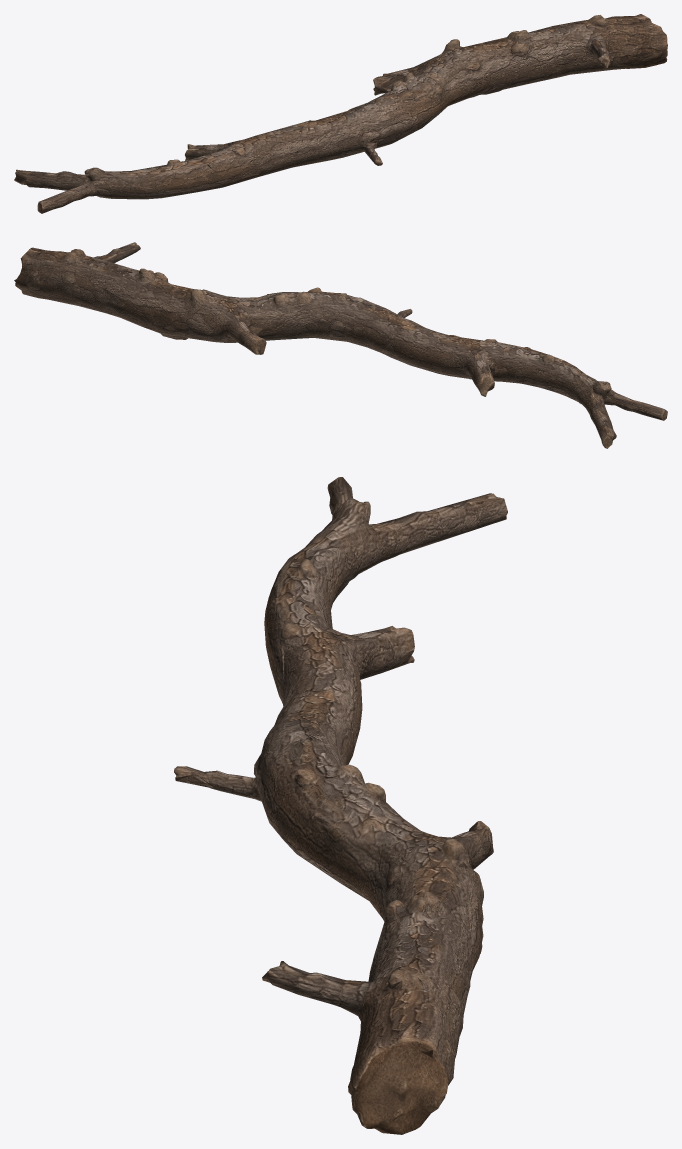
Rendered from Branch_003.fbx.
The picture shows the model from 3 angles, top to bottom: view 1: azimuth 30°, elevation 25°; view 2: azimuth 150°, elevation 25°; view 3: azimuth 270°, elevation 25°; orthographic projection. The views are drawn at different scales.
Parts seen in each view (by area): view 1: output_unwrapped; view 2: output_unwrapped; view 3: output_unwrapped.
Part boxes in pixels (left/top/right/bottom): output_unwrapped: left=14, top=14, right=667, bottom=213; output_unwrapped: left=14, top=242, right=667, bottom=448; output_unwrapped: left=174, top=477, right=507, bottom=1134.
Bounding box in the file's own units: 190 × 16.77 × 43.74.
Materials: 1 (1 with a texture image).
